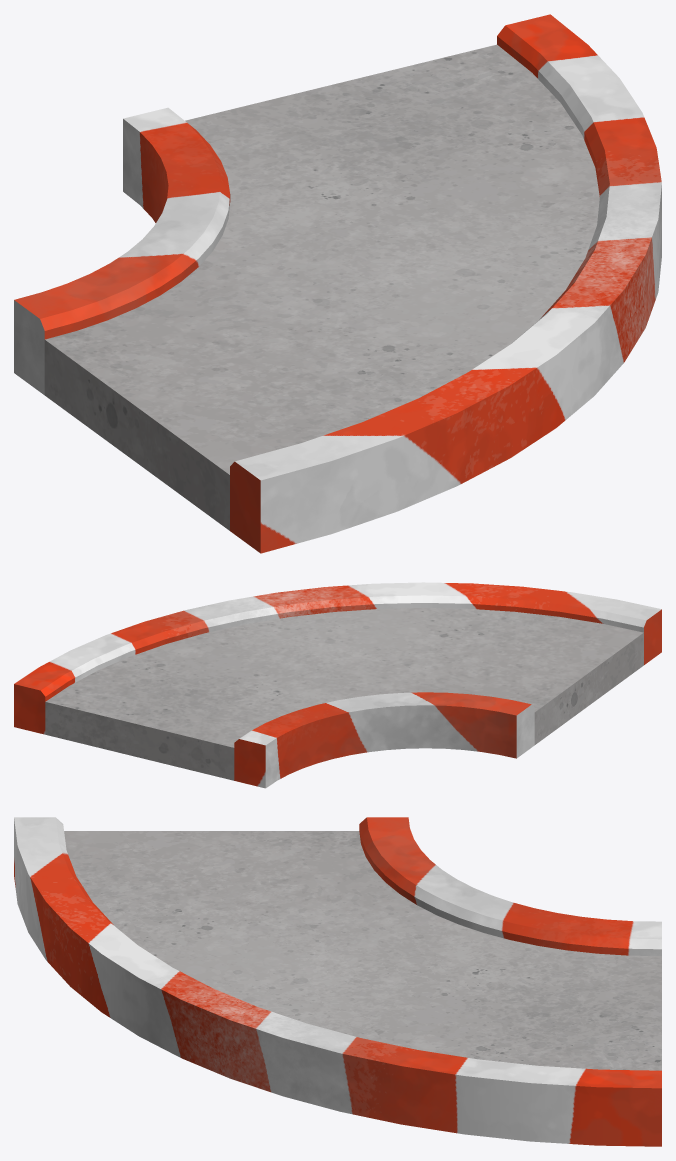
File: turnTrack.fbx
The picture shows the model from 3 angles, top to bottom: view 1: azimuth 30°, elevation 25°; view 2: azimuth 150°, elevation 25°; view 3: azimuth 270°, elevation 25°; orthographic projection. The views are drawn at different scales.
Parts seen in each view (by area): view 1: road, curb; view 2: road, curb; view 3: road, curb.
Boxes of the visible parts, x1=… form: road: x1=44, y1=44, x2=599, y2=530; curb: x1=14, y1=14, x2=661, y2=553; road: x1=45, y1=608, x2=643, y2=780; curb: x1=14, y1=582, x2=661, y2=788; road: x1=64, y1=831, x2=661, y2=1070; curb: x1=14, y1=817, x2=661, y2=1146.
Bounding box in the file's own units: 6.5 × 0.6537 × 6.57.
